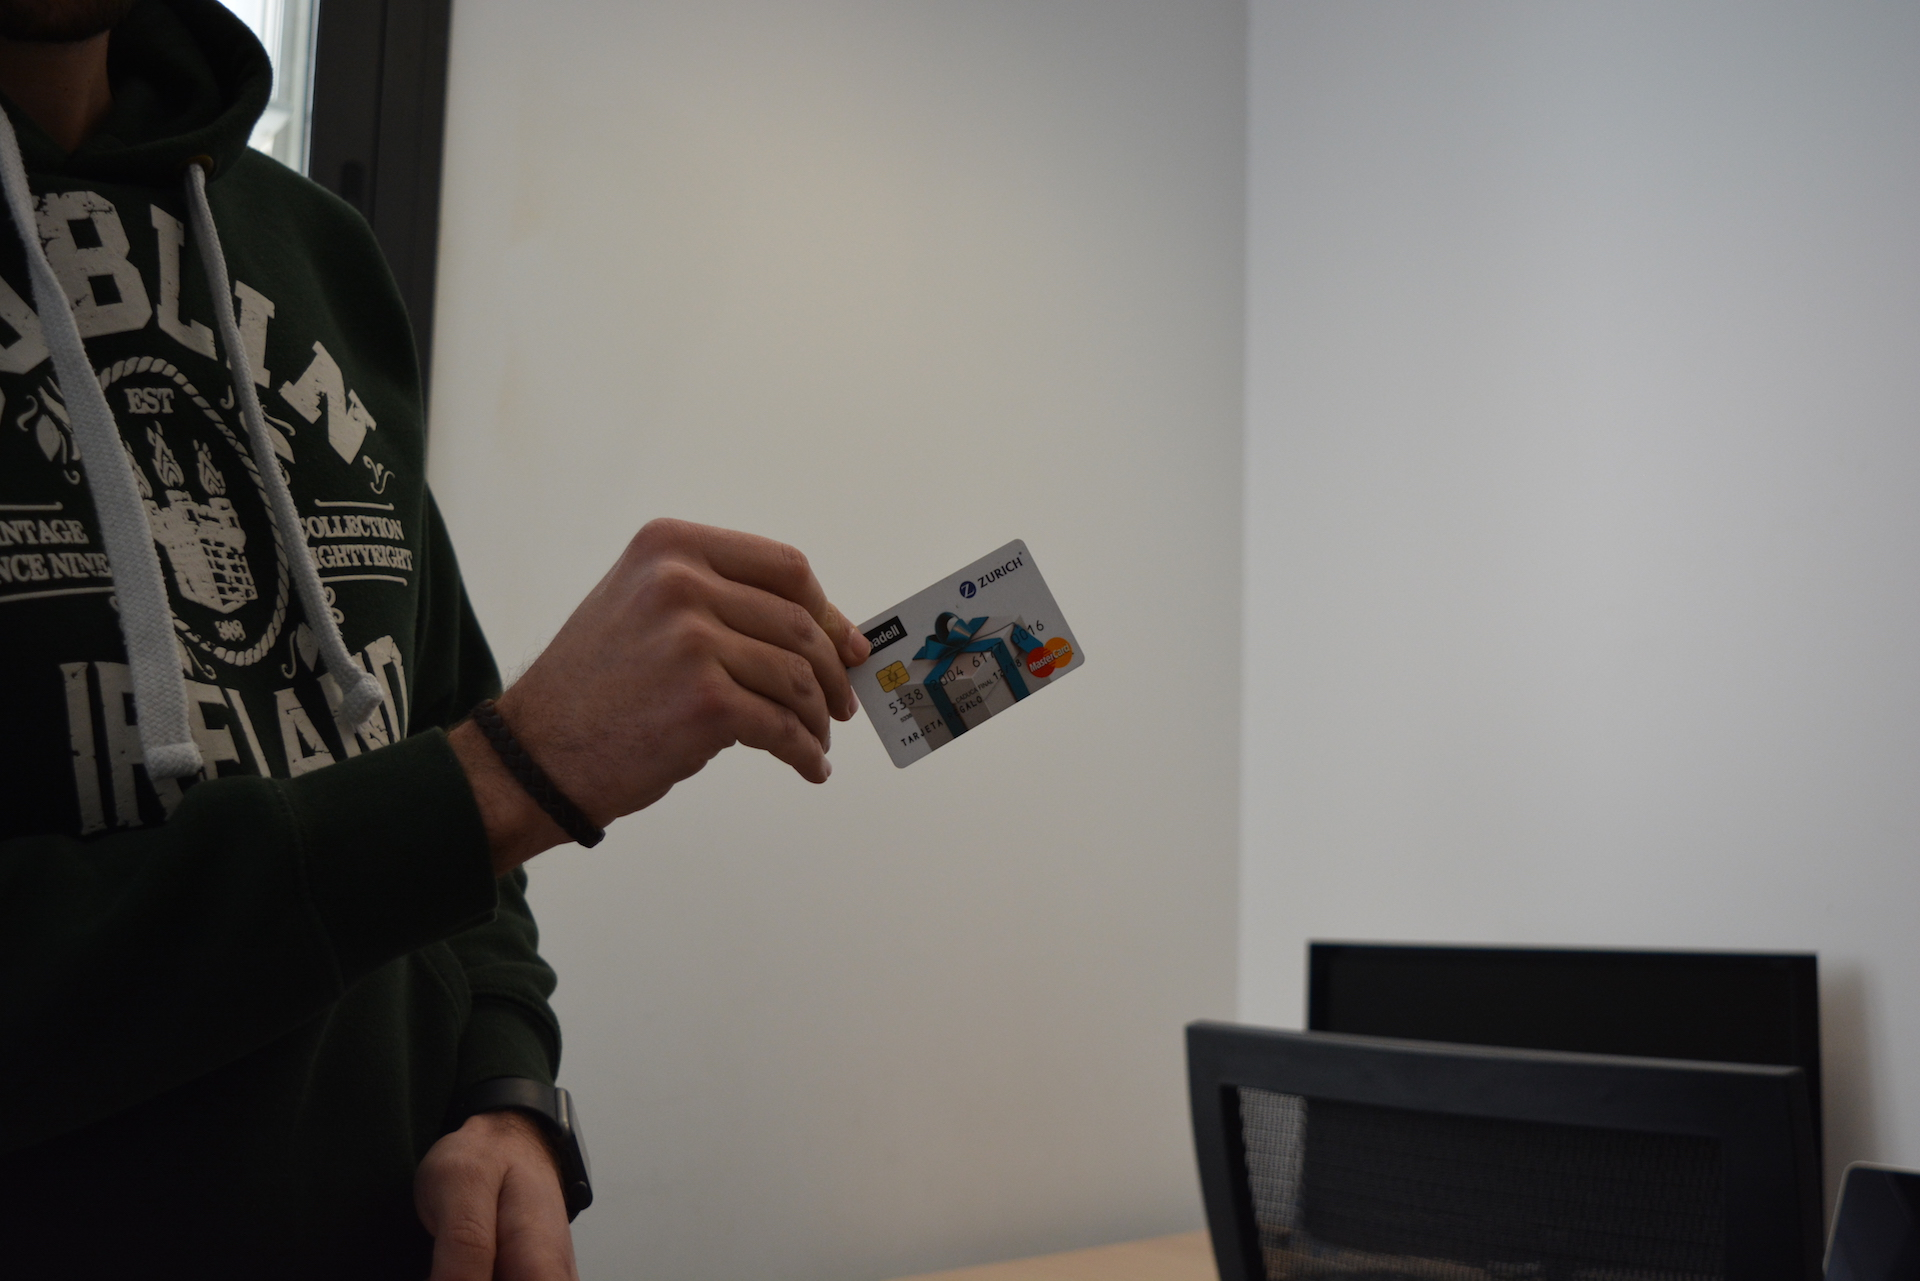tarjeta: (838, 538, 1087, 771)
